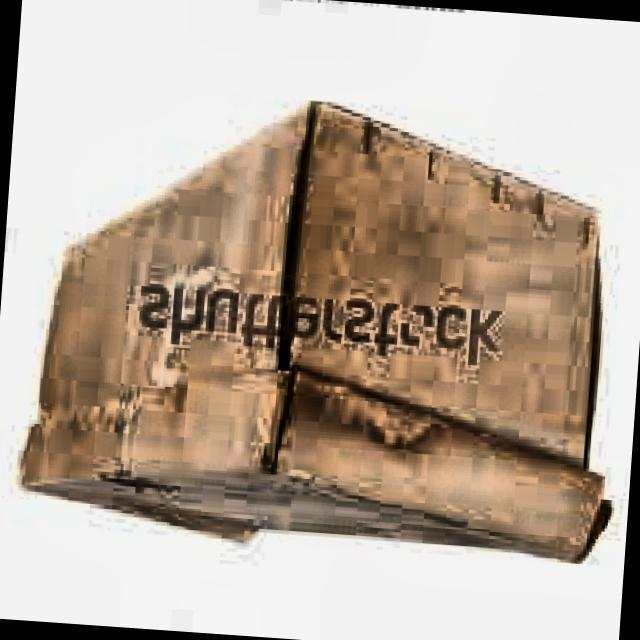cardboard: (9, 81, 638, 574)
